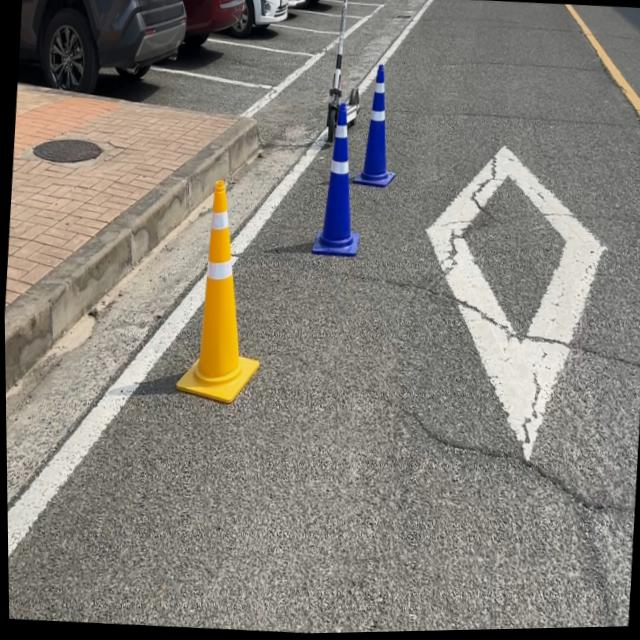b_rub: (311, 102, 358, 256), (353, 59, 395, 187)
y_rub: (174, 180, 258, 403)
